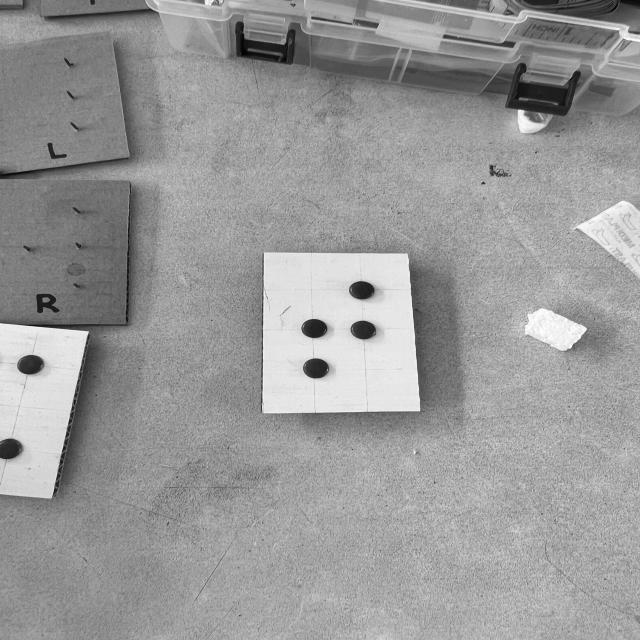braiile: (264, 253, 420, 411)
